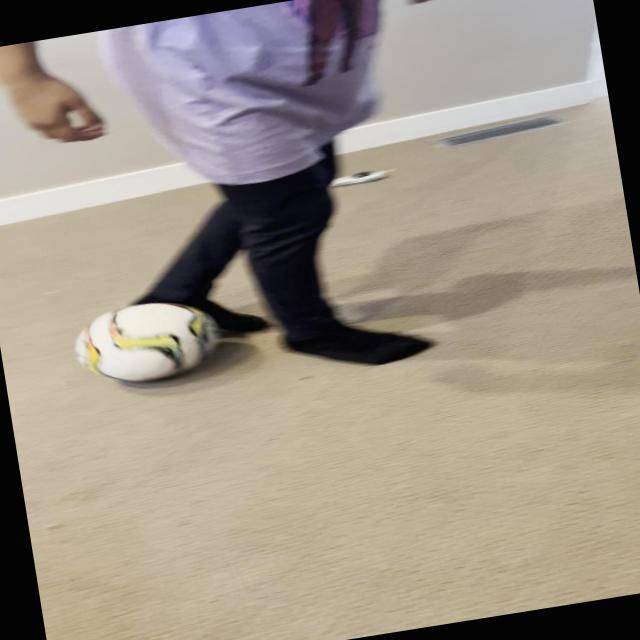Soccer Ball: (70, 292, 225, 394)
